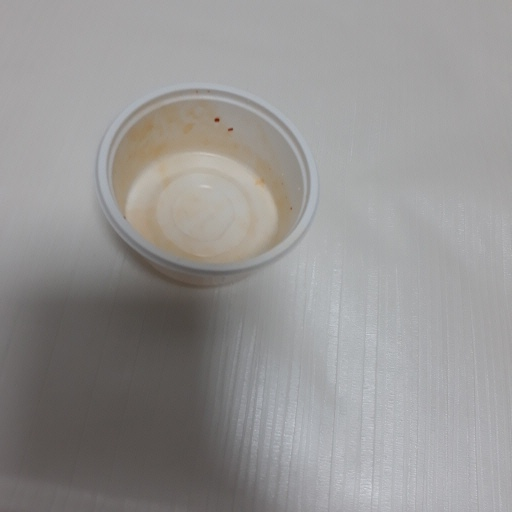Plastic_5: (94, 81, 317, 291)
